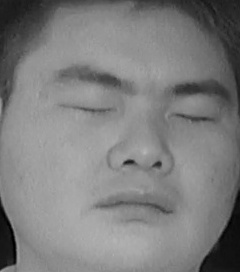blink: (61, 89, 117, 125), (172, 99, 222, 134)
mouth: (94, 178, 179, 227)
